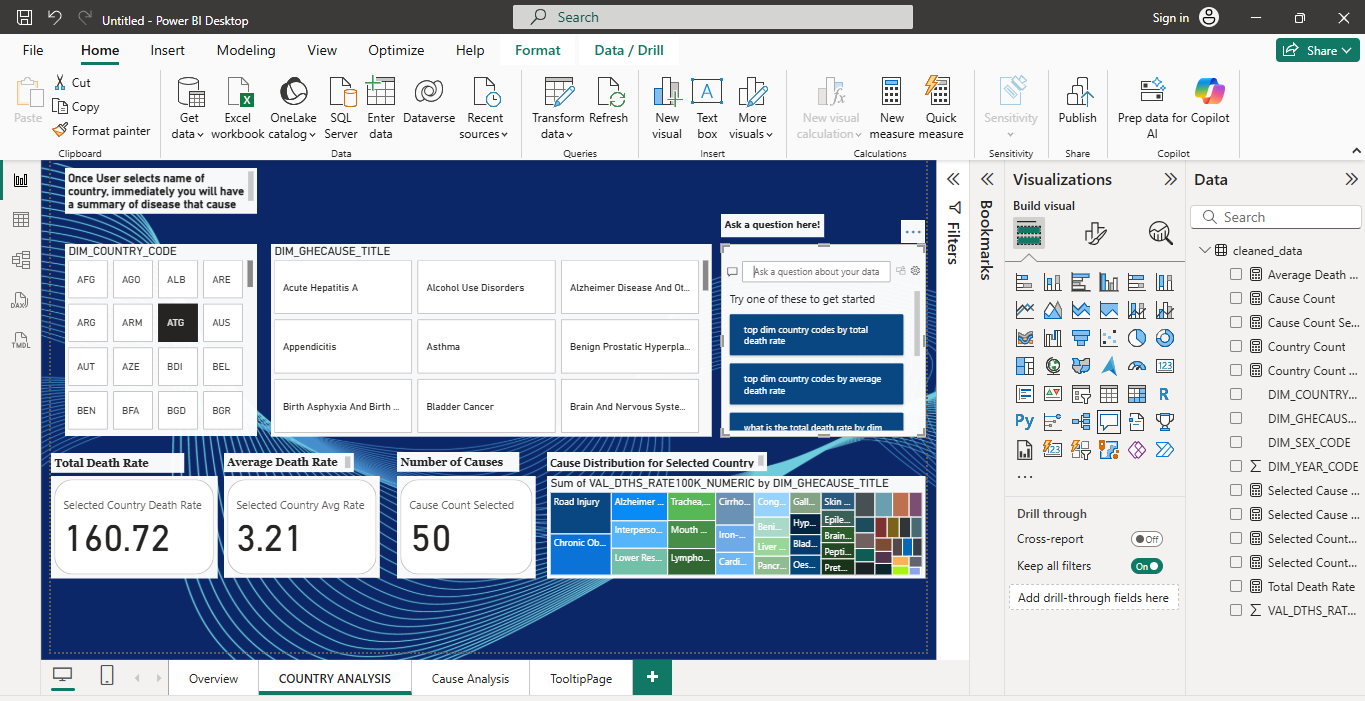

The page's visual inventory and layout, read from the dashboard file:
{"tool":"powerbi","page":{"name":" COUNTRY ANALYSIS","canvas":[1280,720],"ordinal":1},"visuals":[{"type":"advancedSlicerVisual","fields":{"Values":["cleaned_data.DIM_COUNTRY_CODE"]},"box":[20.2,122.6,280.5,280.5],"z":0},{"type":"advancedSlicerVisual","fields":{"Values":["cleaned_data.DIM_GHECAUSE_TITLE"]},"box":[322,122.9,645.4,282.4],"z":1000},{"type":"textbox","box":[20.2,11.8,280.5,67.2],"z":2000},{"type":"textbox","box":[0,428.8,194.6,29.3],"z":3000},{"type":"textbox","box":[253.2,428.8,190.2,27.8],"z":4000},{"type":"textbox","box":[506.3,427.3,178.5,29.3],"z":5000},{"type":"cardVisual","fields":{"Data":["cleaned_data.Selected Country Death Rate"]},"box":[0,461.9,243.6,149.5],"z":6000},{"type":"cardVisual","fields":{"Data":["cleaned_data.Selected Country Avg Rate"]},"box":[253.2,462.4,228.3,149.3],"z":7000},{"type":"cardVisual","fields":{"Data":["cleaned_data.Cause Count Selected"]},"box":[505.6,461.9,203.3,149.5],"z":8000},{"type":"textbox","box":[725.9,427.3,322,27.8],"z":9000},{"type":"treemap","fields":{"Group":["cleaned_data.DIM_GHECAUSE_TITLE"],"Values":["Sum(cleaned_data.VAL_DTHS_RATE100K_NUMERIC)"]},"box":[726,462,554,150],"z":10000},{"type":"qnaVisual","box":[980.5,122.9,300,282.4],"z":10001},{"type":"textbox","box":[980.5,79,150.7,33.7],"z":10002}]}

Visuals, with their boxes on the page's 1280x720 design canvas (x1, y1, x2, y2). These are canvas units, not pixel positions in the 1365x701 screenshot, which may show the page scaled, cropped or inside an application window:
advancedSlicerVisual - cleaned_data.DIM_COUNTRY_CODE: BBox(20, 123, 301, 403)
advancedSlicerVisual - cleaned_data.DIM_GHECAUSE_TITLE: BBox(322, 123, 967, 405)
textbox: BBox(20, 12, 301, 79)
textbox: BBox(0, 429, 195, 458)
textbox: BBox(253, 429, 443, 457)
textbox: BBox(506, 427, 685, 457)
cardVisual - cleaned_data.Selected Country Death Rate: BBox(0, 462, 244, 611)
cardVisual - cleaned_data.Selected Country Avg Rate: BBox(253, 462, 482, 612)
cardVisual - cleaned_data.Cause Count Selected: BBox(506, 462, 709, 611)
textbox: BBox(726, 427, 1048, 455)
treemap - cleaned_data.DIM_GHECAUSE_TITLE x Sum(cleaned_data.VAL_DTHS_RATE100K_NUMERIC): BBox(726, 462, 1280, 612)
qnaVisual: BBox(980, 123, 1280, 405)
textbox: BBox(980, 79, 1131, 113)
